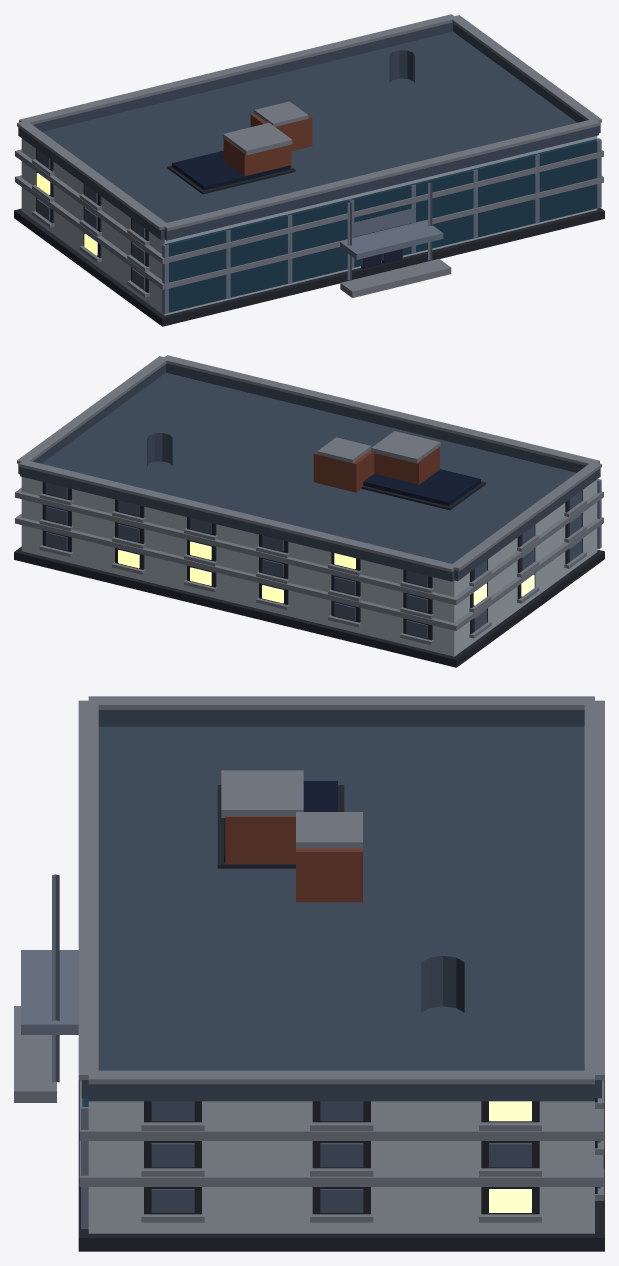
The model's file is design-high.glb.
3 renders of one model, top to bottom at view 1: azimuth 30°, elevation 25°; view 2: azimuth 150°, elevation 25°; view 3: azimuth 270°, elevation 25°, orthographic. The views are drawn at different scales.
Bounding box in the file's own units: 71.6 × 17.95 × 46.7.
